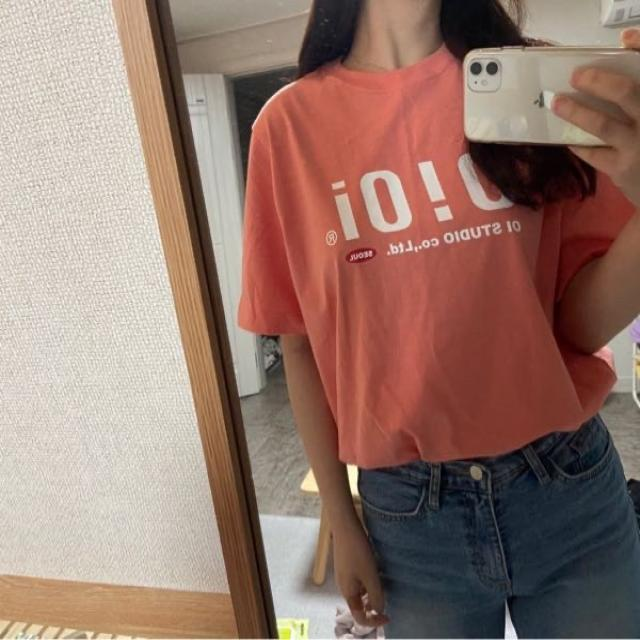denimpants: (356, 413, 638, 640)
shortsleeve: (240, 55, 640, 476)
